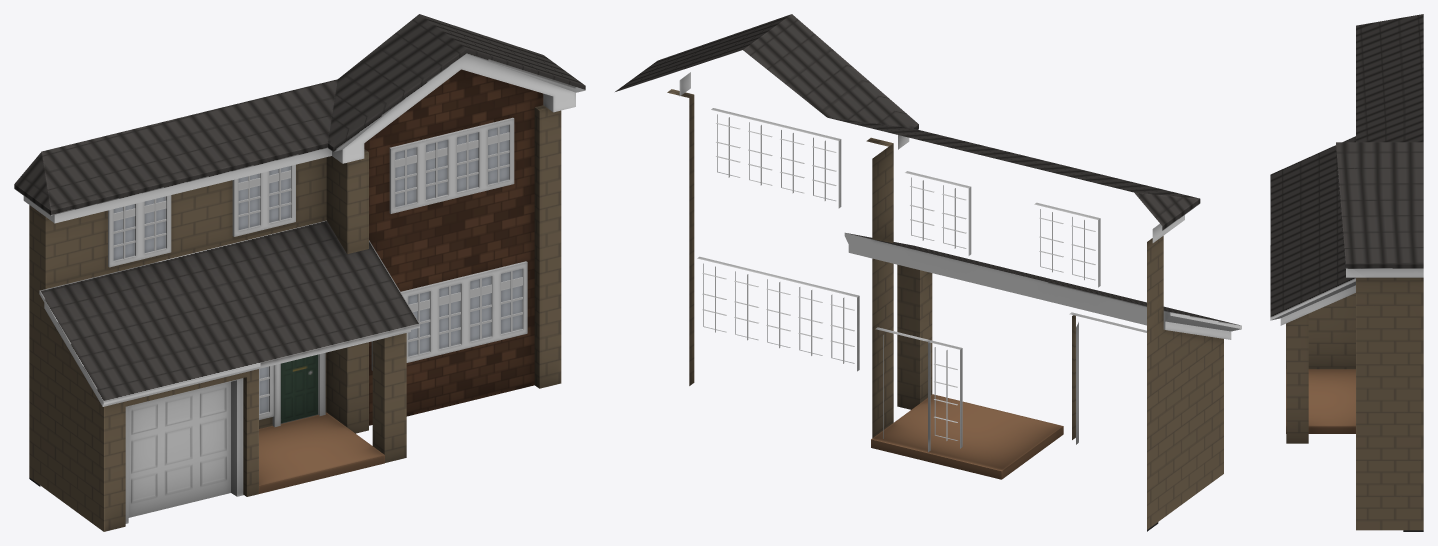
The model's file is coolhouse.glb.
3 views of the same model, side by side, from view 1: azimuth 30°, elevation 25°; view 2: azimuth 150°, elevation 25°; view 3: azimuth 270°, elevation 25° (orthographic). The views are drawn at different scales.
Parts seen in each view (by area): view 1: HouseWithDriveway_Mesh.002; view 2: HouseWithDriveway_Mesh.002; view 3: HouseWithDriveway_Mesh.002.
Part boxes in pixels (x1=…): HouseWithDriveway_Mesh.002: x1=14, y1=14, x2=585, y2=531; HouseWithDriveway_Mesh.002: x1=615, y1=14, x2=1241, y2=531; HouseWithDriveway_Mesh.002: x1=1270, y1=14, x2=1423, y2=531.
Size of the model in its own units: 15 by 10.02 by 4.07.
Materials: 1 (1 with a texture image).
